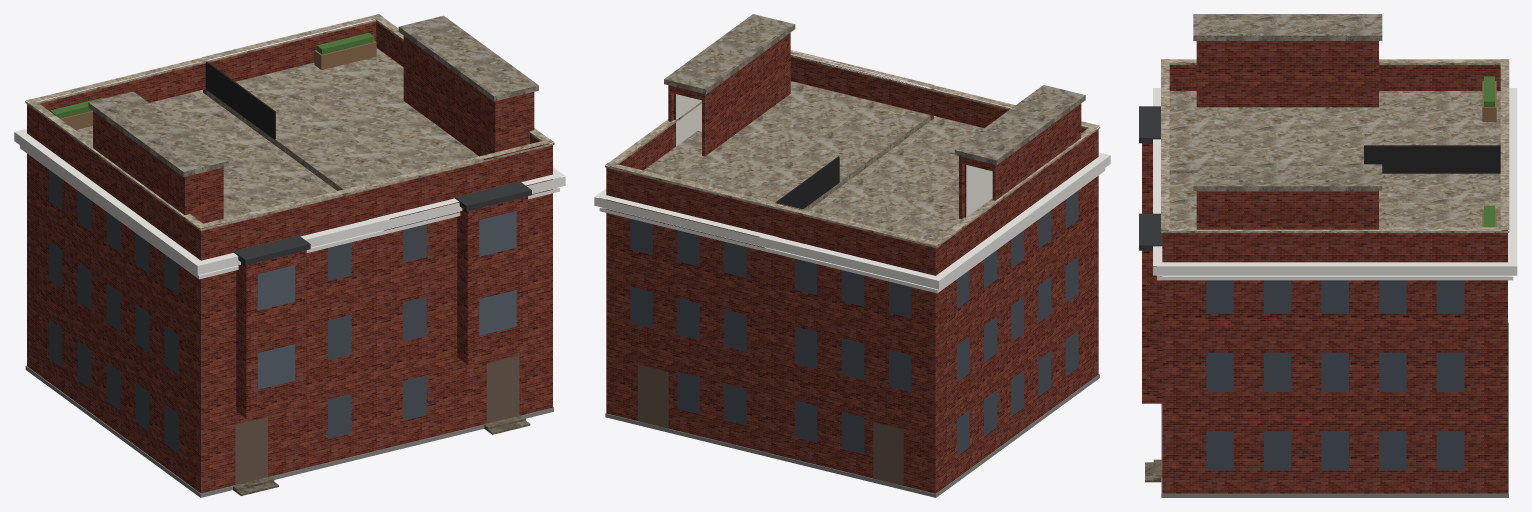
The model's file is ns-rowhouses.zfix-v22.lod1.glb.
3 views of the same model, side by side, from view 1: azimuth 30°, elevation 25°; view 2: azimuth 150°, elevation 25°; view 3: azimuth 270°, elevation 25° (orthographic). The views are drawn at different scales.
Visible parts, largest first — view 1: ns-rowhouses; view 2: ns-rowhouses; view 3: ns-rowhouses.
Boxes of the visible parts, <box> form: ns-rowhouses: <box>14,14,565,497</box>; ns-rowhouses: <box>594,14,1110,497</box>; ns-rowhouses: <box>1139,14,1517,497</box>.
Size of the model in its own units: 14.64 by 11.97 by 13.14.
Materials: 3 (2 with a texture image).
